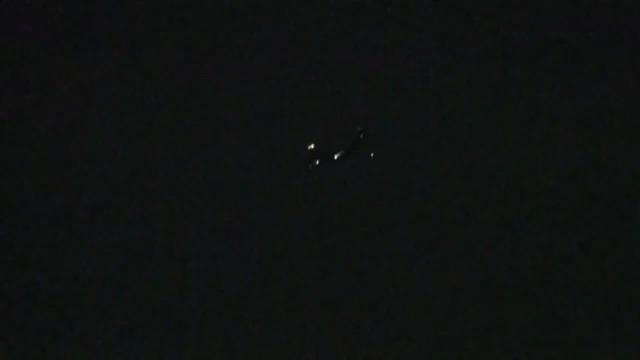Plane: (294, 117, 381, 176)
